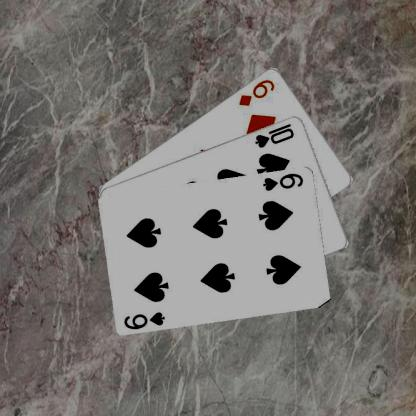10S: (252, 121, 296, 148)
6D: (236, 76, 276, 107)
6S: (260, 170, 305, 192), (122, 309, 166, 330)
